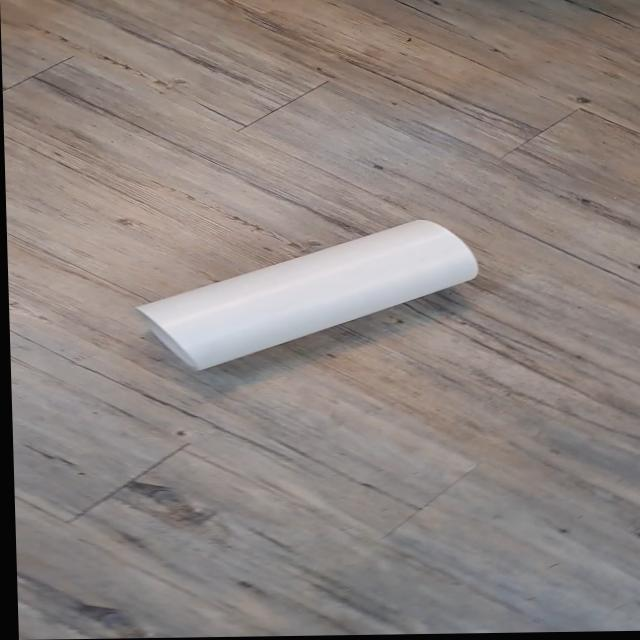CORAL: (110, 200, 529, 386)
